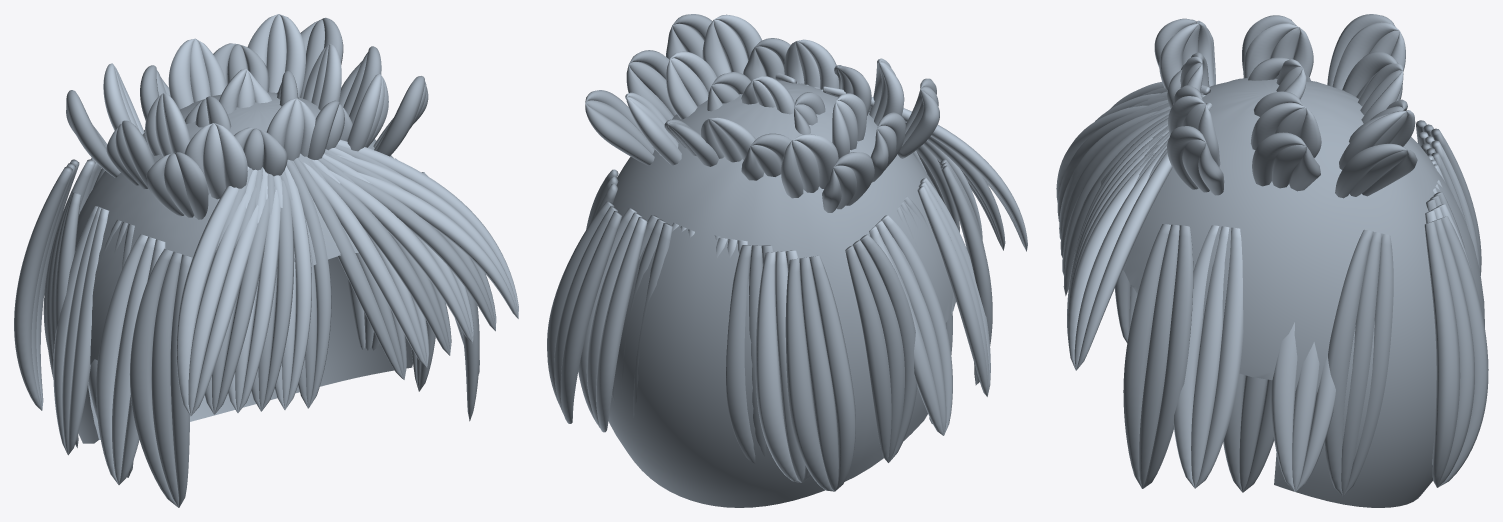
3 views of the same model, side by side, from view 1: azimuth 30°, elevation 25°; view 2: azimuth 150°, elevation 25°; view 3: azimuth 270°, elevation 25° (orthographic). The views are drawn at different scales.
Parts seen in each view (by area): view 1: CrownHair_male_ref01, SideHair_-1_0_Strand2, SideHair_-1_0_Strand1, BackHair_00_Strand0, FrontHair_CenterPart_-1_5_Strand2, SideHair_-1_1_Strand2, SideHair_-1_1_Strand1, FrontHair_CenterPart_1_0_Strand2, FrontHair_CenterPart_-1_5_Strand1, SideHair_-1_3_Strand0, FrontHair_CenterPart_1_1_Strand2, FrontHair_CenterPart_-1_1_Strand0 (+66 smaller); view 2: CrownHair_male_ref01, BackHair_00_Strand2, BackHair_01_Strand2, BackHair_00_Strand1, BackHair_00_Strand0, BackHair_02_Strand2, SideHair_-1_4_Strand2, BackHair_07_Strand0, BackHair_08_Strand0, SideHair_-1_4_Strand1, SideHair_-1_1_Strand2, SideHair_-1_4_Strand0 (+55 smaller); view 3: CrownHair_male_ref01, BackHair_08_Strand2, SideHair_1_0_Strand0, SideHair_1_0_Strand2, SideHair_1_1_Strand0, SideHair_1_4_Strand2, SideHair_1_0_Strand1, SideHair_1_1_Strand1, SideHair_1_4_Strand1, SideHair_1_4_Strand0, FrontHair_CenterPart_1_5_Strand0, BackHair_08_Strand1 (+53 smaller).
Part boxes in pixels (bbox=[...]): CrownHair_male_ref01: bbox=[75, 92, 412, 443]; SideHair_-1_0_Strand2: bbox=[129, 248, 178, 507]; SideHair_-1_0_Strand1: bbox=[151, 251, 182, 507]; BackHair_00_Strand0: bbox=[14, 166, 72, 410]; FrontHair_CenterPart_-1_5_Strand2: bbox=[176, 166, 249, 415]; SideHair_-1_1_Strand2: bbox=[96, 234, 148, 484]; SideHair_-1_1_Strand1: bbox=[112, 236, 155, 484]; FrontHair_CenterPart_1_0_Strand2: bbox=[293, 158, 403, 379]; FrontHair_CenterPart_-1_5_Strand1: bbox=[188, 193, 247, 415]; SideHair_-1_3_Strand0: bbox=[68, 208, 109, 454]; FrontHair_CenterPart_1_1_Strand2: bbox=[303, 162, 426, 367]; FrontHair_CenterPart_-1_1_Strand0: bbox=[284, 166, 311, 409]; CrownHair_male_ref01: bbox=[608, 80, 956, 507]; BackHair_00_Strand2: bbox=[785, 258, 834, 491]; BackHair_01_Strand2: bbox=[755, 252, 801, 482]; BackHair_00_Strand1: bbox=[799, 257, 838, 491]; BackHair_00_Strand0: bbox=[809, 255, 855, 491]; BackHair_02_Strand2: bbox=[726, 245, 755, 463]; SideHair_-1_4_Strand2: bbox=[845, 245, 891, 462]; BackHair_07_Strand0: bbox=[596, 217, 647, 432]; BackHair_08_Strand0: bbox=[560, 211, 621, 423]; SideHair_-1_4_Strand1: bbox=[852, 240, 904, 462]; SideHair_-1_1_Strand2: bbox=[917, 186, 988, 396]; SideHair_-1_4_Strand0: bbox=[859, 234, 917, 462]; CrownHair_male_ref01: bbox=[1101, 78, 1484, 507]; BackHair_08_Strand2: bbox=[1424, 221, 1460, 487]; SideHair_1_0_Strand0: bbox=[1142, 225, 1193, 488]; SideHair_1_0_Strand2: bbox=[1123, 224, 1170, 488]; SideHair_1_1_Strand0: bbox=[1195, 227, 1243, 488]; SideHair_1_4_Strand2: bbox=[1325, 229, 1373, 495]; SideHair_1_0_Strand1: bbox=[1139, 224, 1179, 488]; SideHair_1_1_Strand1: bbox=[1191, 226, 1229, 488]; SideHair_1_4_Strand1: bbox=[1341, 231, 1381, 495]; SideHair_1_4_Strand0: bbox=[1343, 233, 1393, 495]; FrontHair_CenterPart_1_5_Strand0: bbox=[1076, 102, 1212, 370]; BackHair_08_Strand1: bbox=[1432, 219, 1474, 487].
Bounding box in the file's own units: 0.7792 × 0.8079 × 0.7434.
